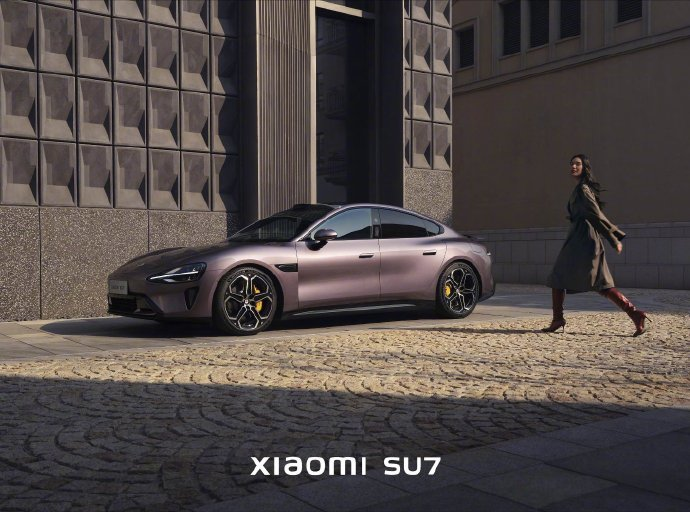su7: (108, 209, 499, 322)
